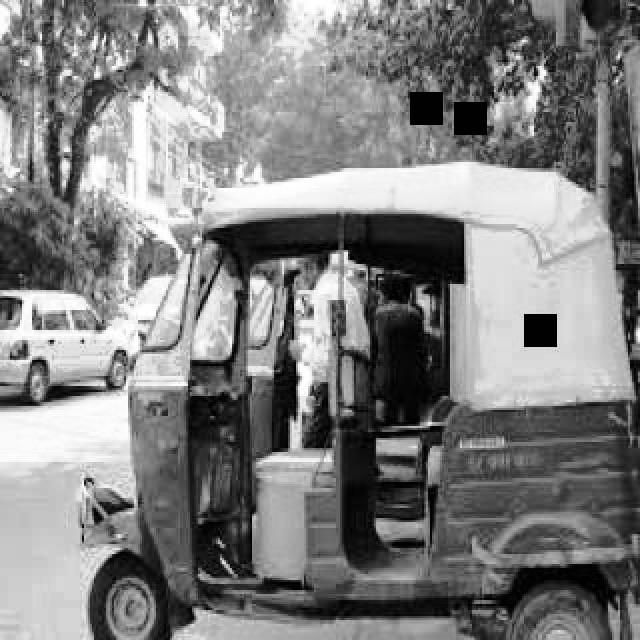Auto-Rickshaw: (102, 186, 640, 640)
Car: (0, 281, 133, 411)
